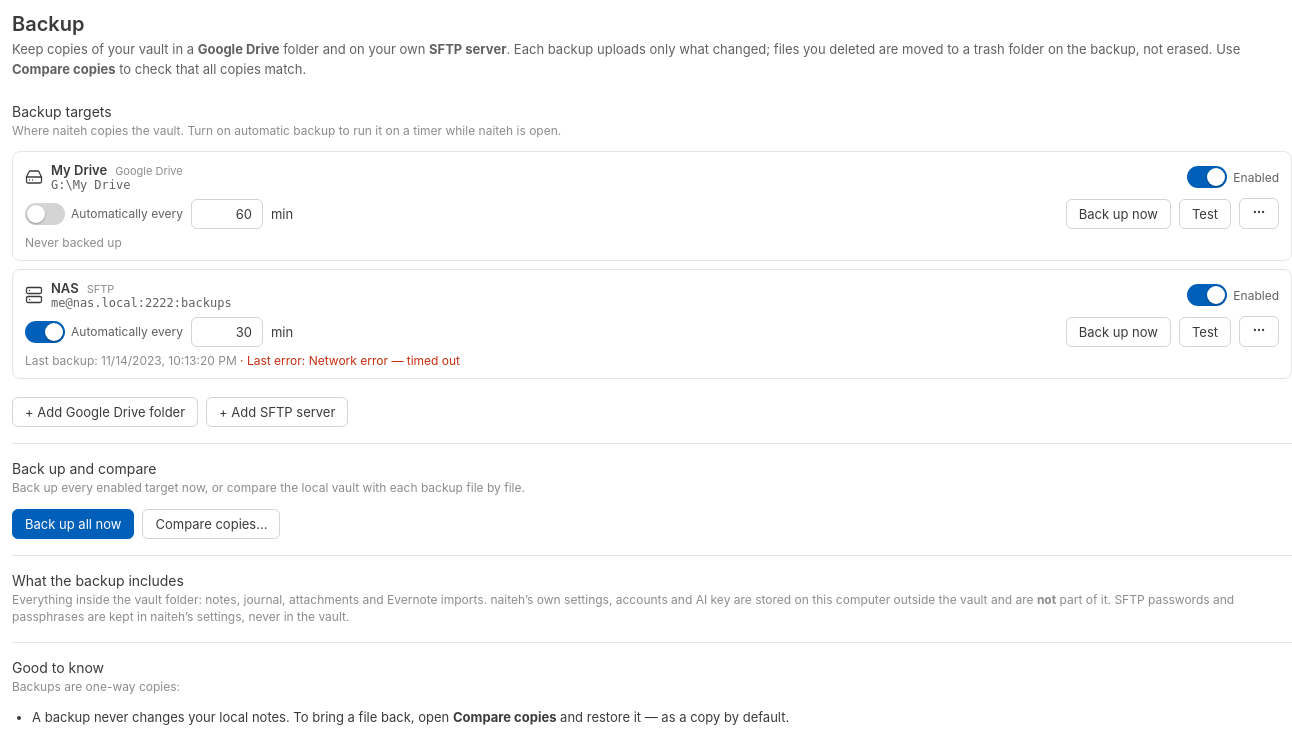
Test: BackupSection › tests a connection and reports the result
The width and height of the screenshot is (1292, 730).
Click the button with test id "backup-test-s1": x=1205, y=332 [1179,317,1231,347]
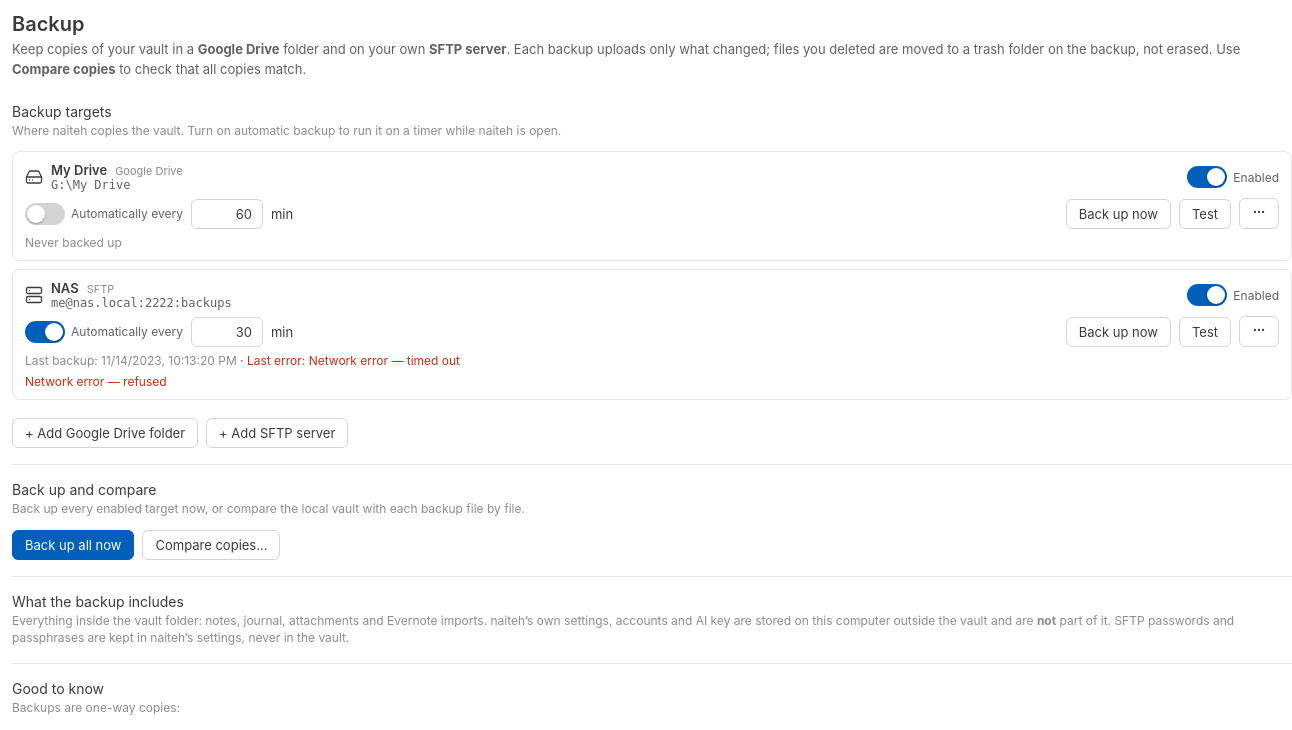
Check: the message with test id "backup-message-s1" reads "Network error — refused", box [25,374,167,389]
